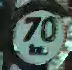Speed limit: (3, 4, 66, 64)
